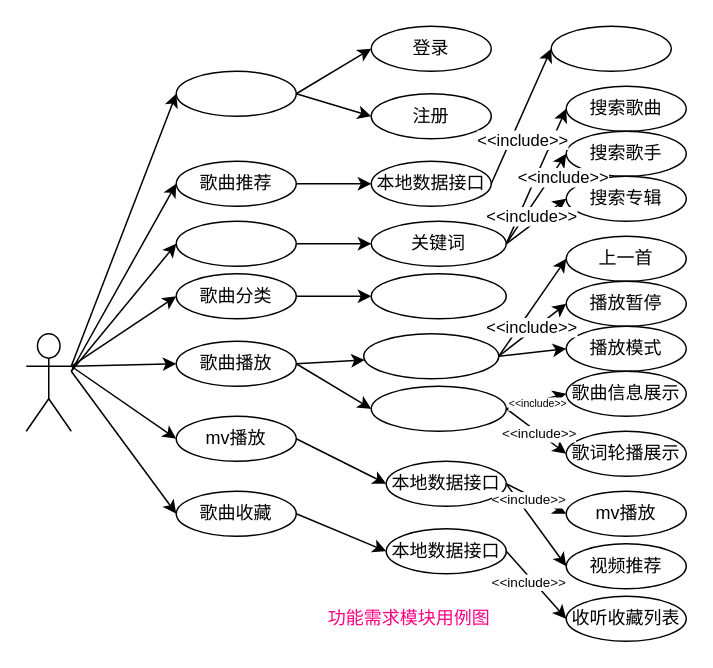
This 713x668 diagram has some shape labels left out. The shapes that lost their labels are listed below. From the top down, each one's centre as x and y in pixels, then its label:
At (x=610, y=48): "本地推荐列表".
At (x=235, y=93): "用户管理".
At (x=235, y=243): "歌曲搜索".
At (x=438, y=295): "不同风格歌曲".
At (x=430, y=355): "操作".
At (x=48, y=381): "Actor".
At (x=438, y=408): "信息展示".
